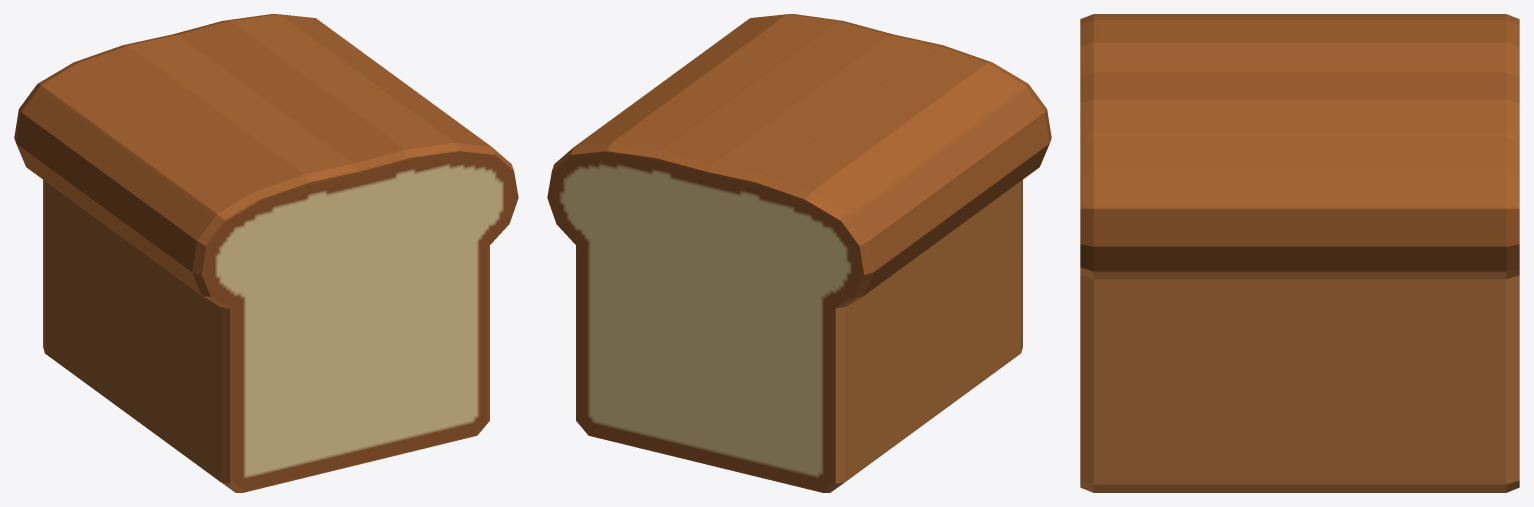
The model's file is Bread.fbx.
3 views of the same model, side by side, from view 1: azimuth 30°, elevation 25°; view 2: azimuth 150°, elevation 25°; view 3: azimuth 270°, elevation 25° (orthographic). The views are drawn at different scales.
Parts seen in each view (by area): view 1: Bread; view 2: Bread; view 3: Bread.
Boxes of the visible parts, x1,y1,x2,y2 form: Bread: [14, 14, 518, 492]; Bread: [547, 14, 1051, 492]; Bread: [1080, 14, 1519, 492].
Bounding box in the file's own units: 260 × 231 × 260.
Materials: 1 (1 with a texture image).
